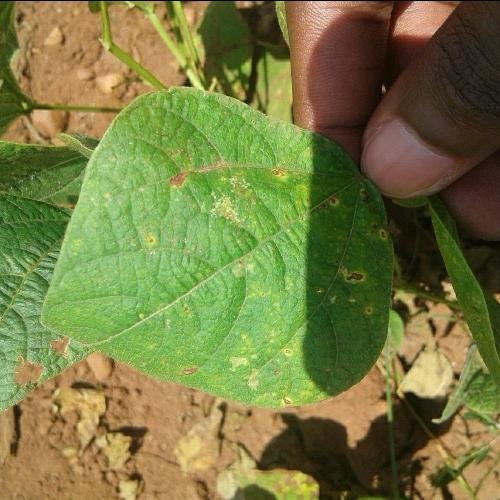hawar: (115, 128, 388, 392)
